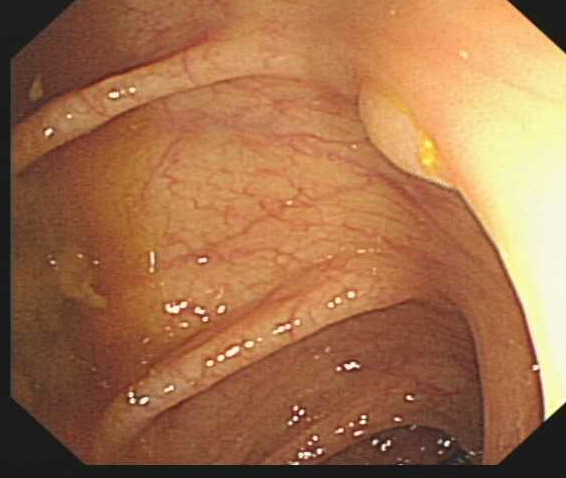others: (355, 75, 458, 193)
